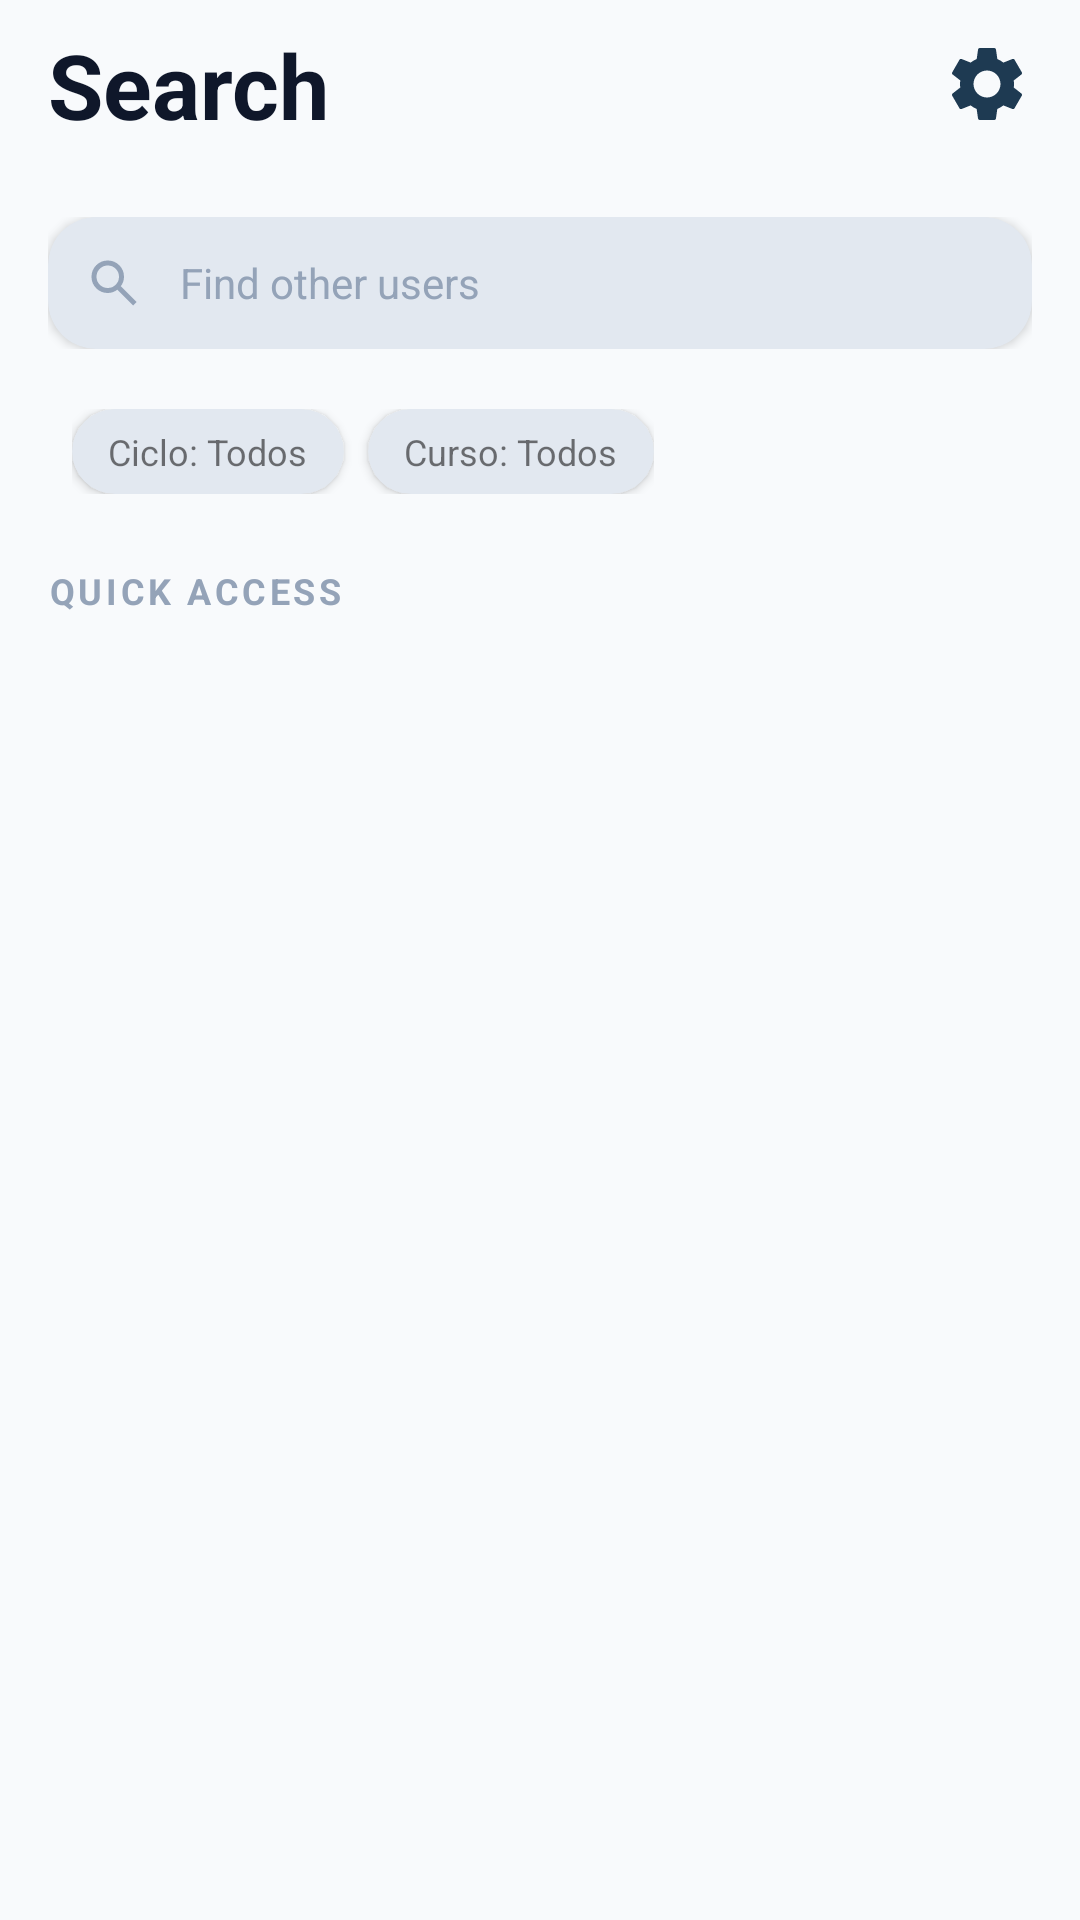

Where icons sit on this 1080 × 1920 app screen, as (x1, y1, x2, y2):
settings: (952, 48, 1022, 120)
